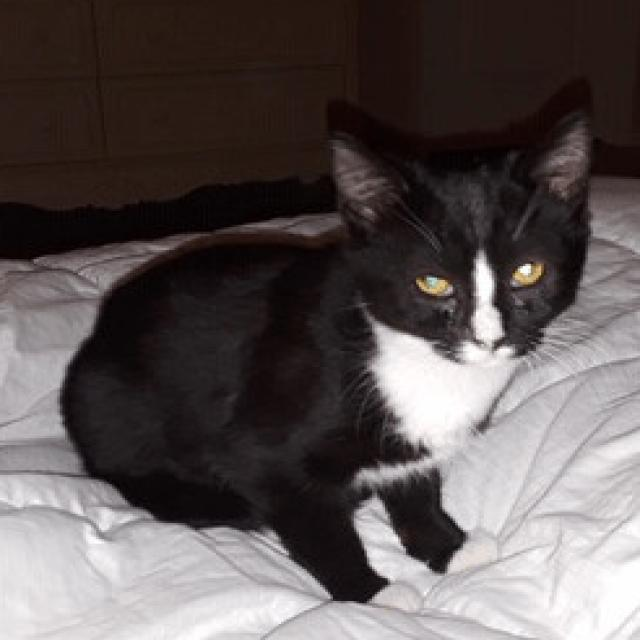Tuxedo: (58, 105, 602, 613)
